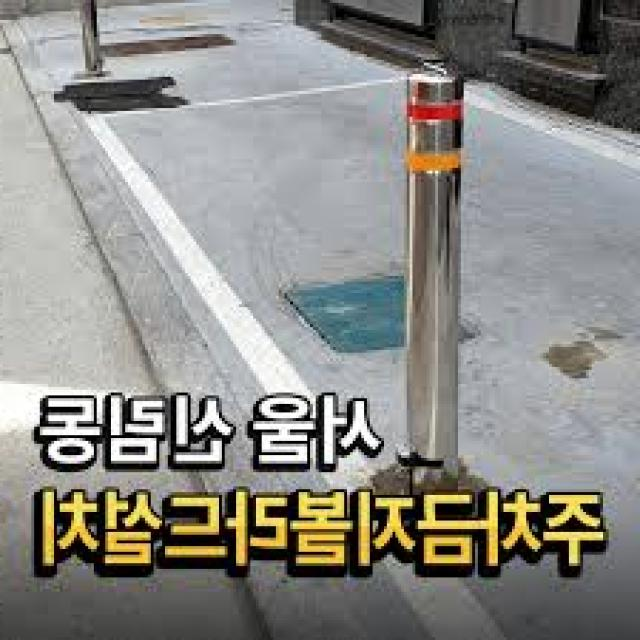bollard: (389, 60, 469, 476), (76, 0, 104, 75)
